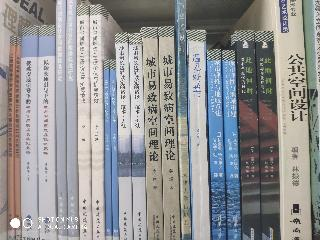book-spine: (274, 0, 312, 240), (256, 31, 280, 240), (188, 31, 211, 239), (237, 31, 259, 240), (142, 28, 163, 240), (160, 27, 180, 239), (38, 25, 56, 240), (206, 50, 226, 240), (176, 1, 191, 239), (22, 26, 38, 240), (223, 52, 241, 239), (116, 33, 132, 240), (90, 5, 104, 239), (130, 35, 146, 239), (78, 6, 91, 240), (67, 1, 79, 239), (57, 1, 67, 239), (110, 60, 119, 240), (103, 60, 111, 239), (9, 37, 15, 239), (16, 37, 20, 240)
